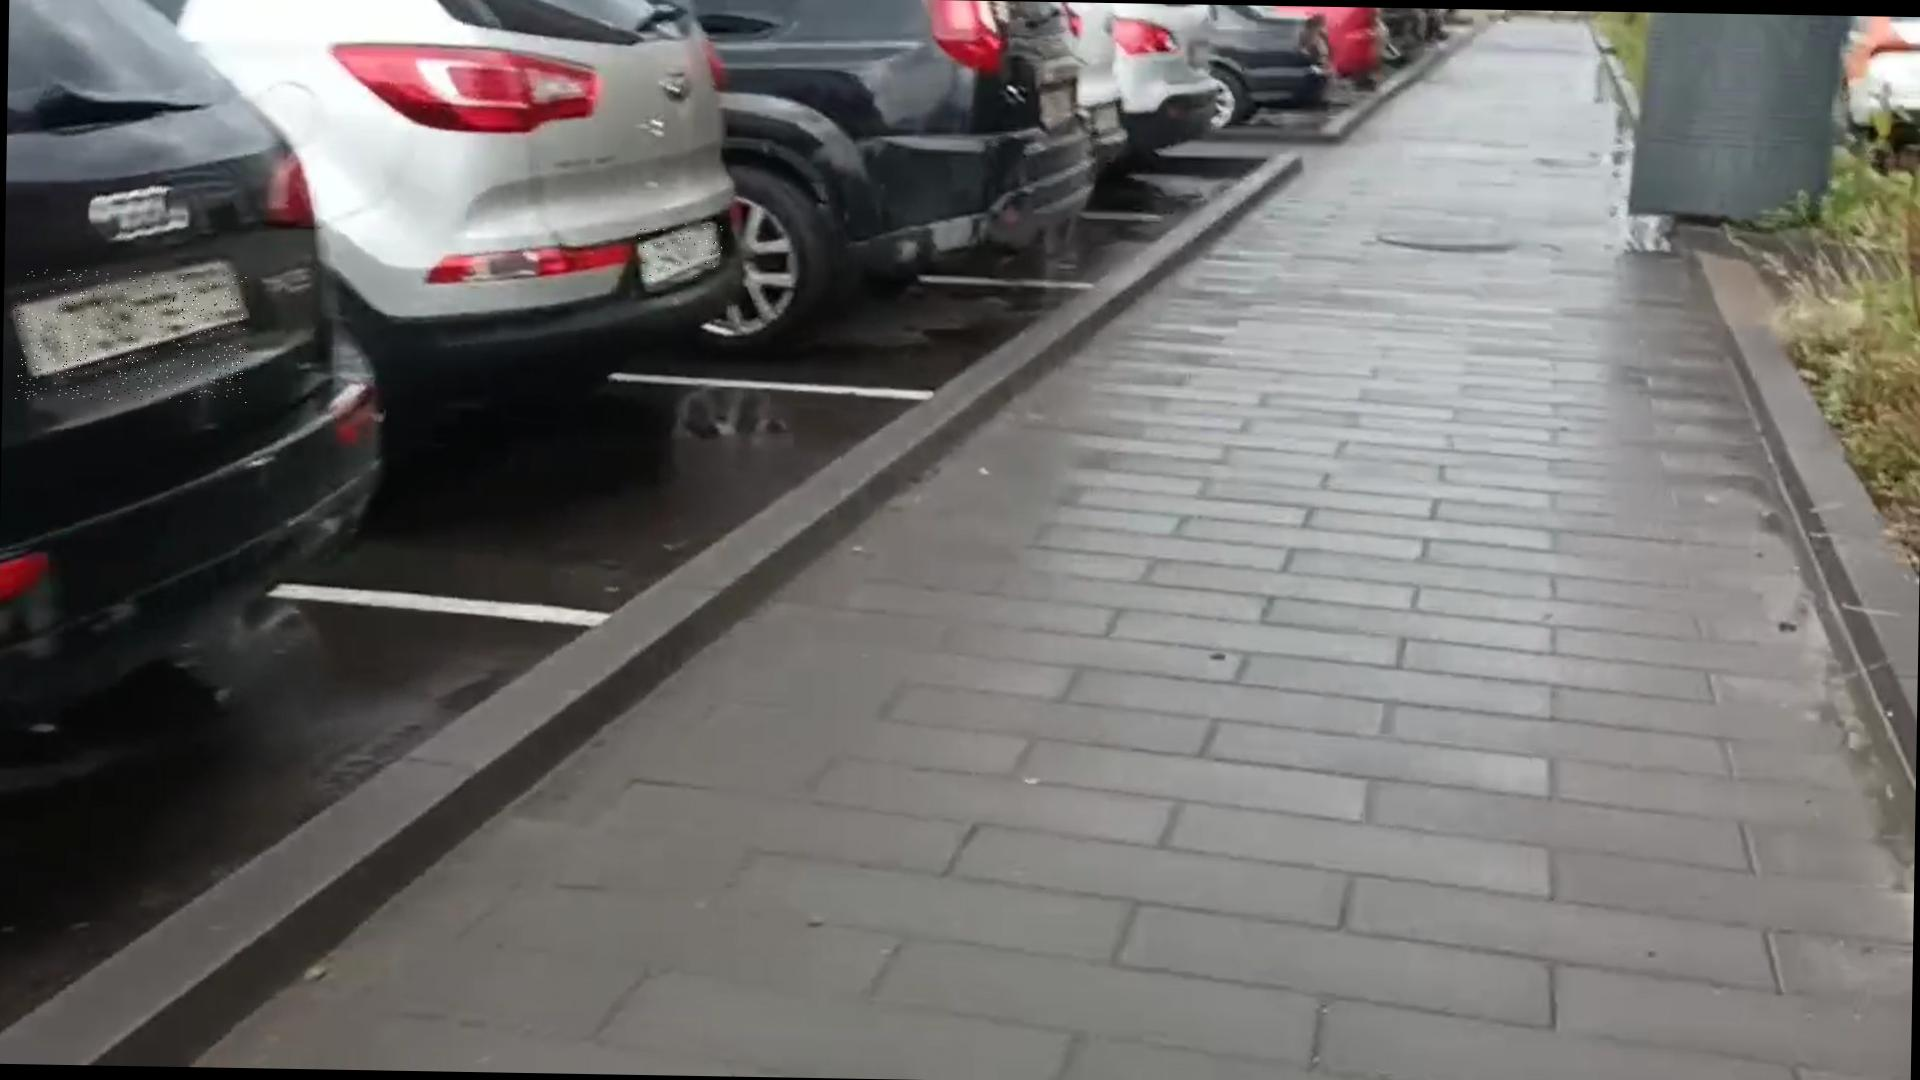plate: (15, 271, 251, 405), (637, 224, 725, 279)
